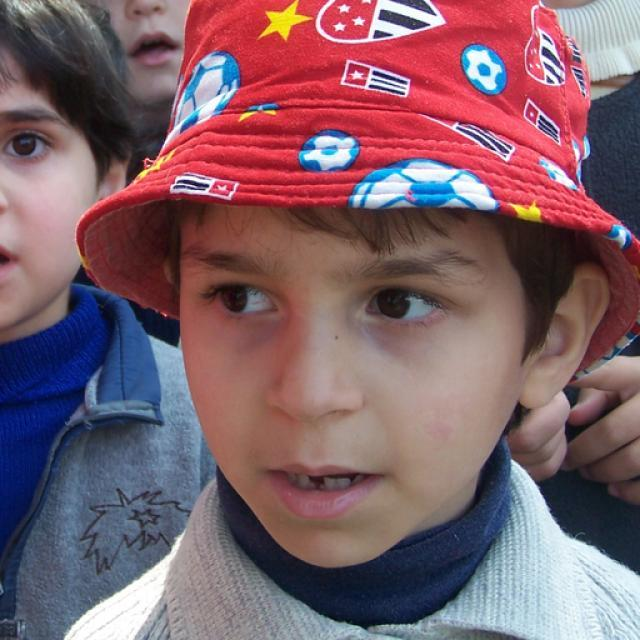surprise: (177, 211, 532, 570)
